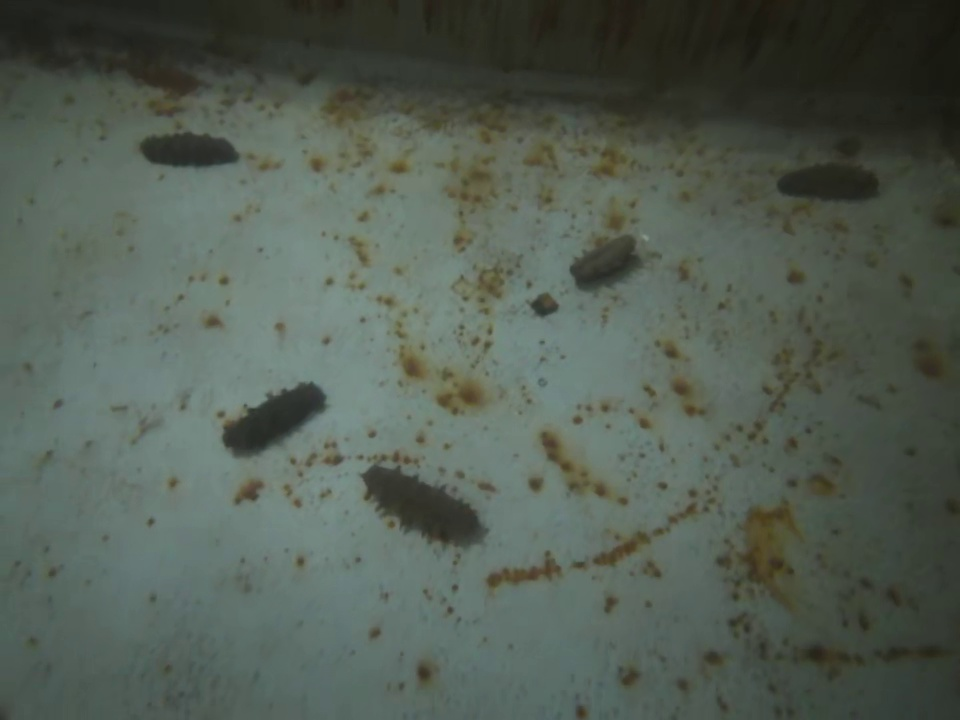seacucumber: (358, 460, 487, 550), (219, 376, 332, 457), (769, 159, 893, 205), (135, 126, 244, 171), (569, 234, 647, 287)
